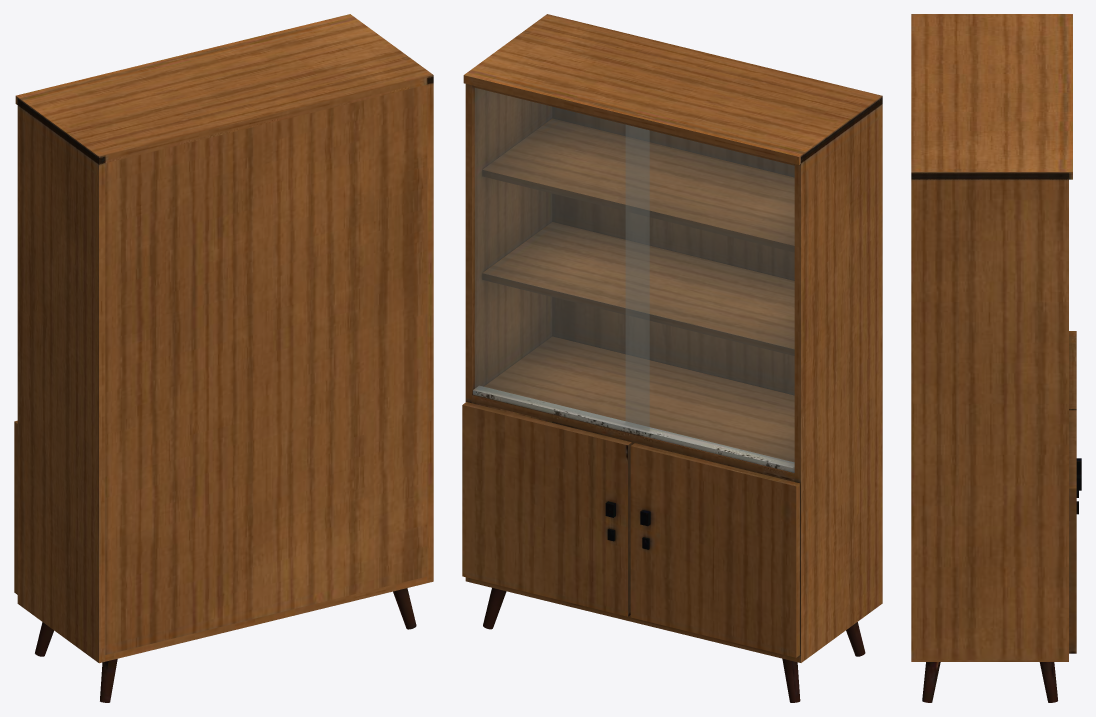
Rendered from sideboard_tall_web.glb.
3 renders of one model, left to right at view 1: azimuth 30°, elevation 25°; view 2: azimuth 150°, elevation 25°; view 3: azimuth 270°, elevation 25°, orthographic. The views are drawn at different scales.
Visible parts, largest first — view 1: SideboardTall_Body, Door_R_Mesh; view 2: SideboardTall_Body, Glass_A, Glass_B, Door_R_Mesh, Door_L_Mesh; view 3: SideboardTall_Body, Door_L_Mesh, Door_R_Mesh.
Boxes of the visible parts, x1,y1,x2,y2 form: SideboardTall_Body: [15, 14, 433, 702]; Door_R_Mesh: [14, 420, 17, 594]; SideboardTall_Body: [463, 14, 882, 702]; Glass_A: [475, 88, 649, 430]; Glass_B: [626, 125, 794, 463]; Door_R_Mesh: [630, 443, 800, 657]; Door_L_Mesh: [462, 402, 631, 616]; SideboardTall_Body: [911, 14, 1072, 702]; Door_L_Mesh: [1069, 410, 1081, 653]; Door_R_Mesh: [1069, 331, 1081, 497].
Bounding box in the file's own units: 0.95 × 1.51 × 0.432.
2 materials, 1 textured.
